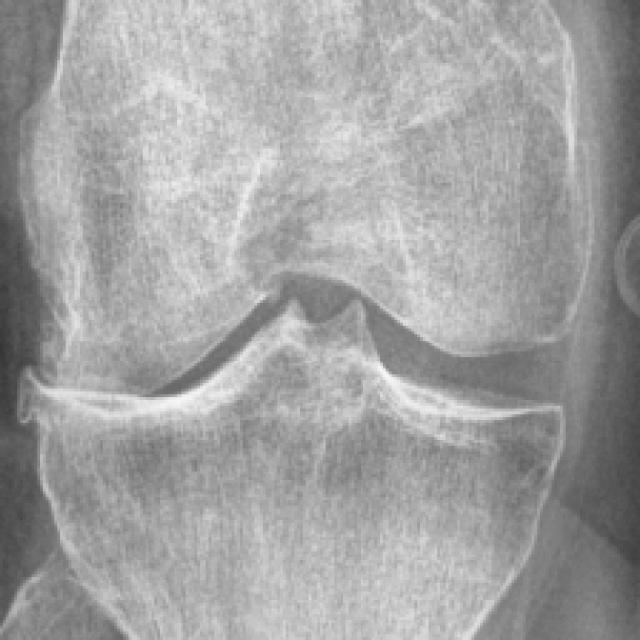femur: (19, 1, 598, 395)
tibia: (19, 306, 560, 637)
